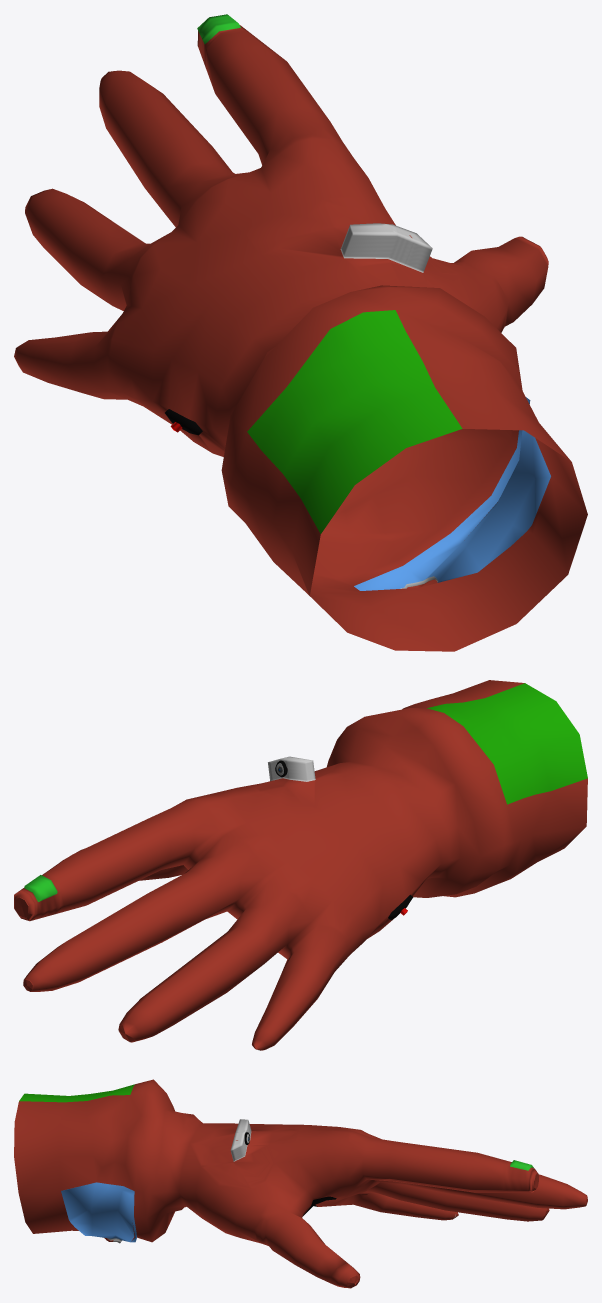
File: Glove Port.glb
3 renders of one model, top to bottom at view 1: azimuth 30°, elevation 25°; view 2: azimuth 150°, elevation 25°; view 3: azimuth 270°, elevation 25°, orthographic. The views are drawn at different scales.
Parts seen in each view (by area): view 1: CocoGloves.001; view 2: CocoGloves.001; view 3: CocoGloves.001.
Boxes of the visible parts, left/top/right/bottom form: CocoGloves.001: left=14, top=14, right=587, bottom=651; CocoGloves.001: left=14, top=680, right=587, bottom=1050; CocoGloves.001: left=14, top=1079, right=587, bottom=1288.
Bounding box in the file's own units: 0.6605 × 0.3478 × 1.21.
